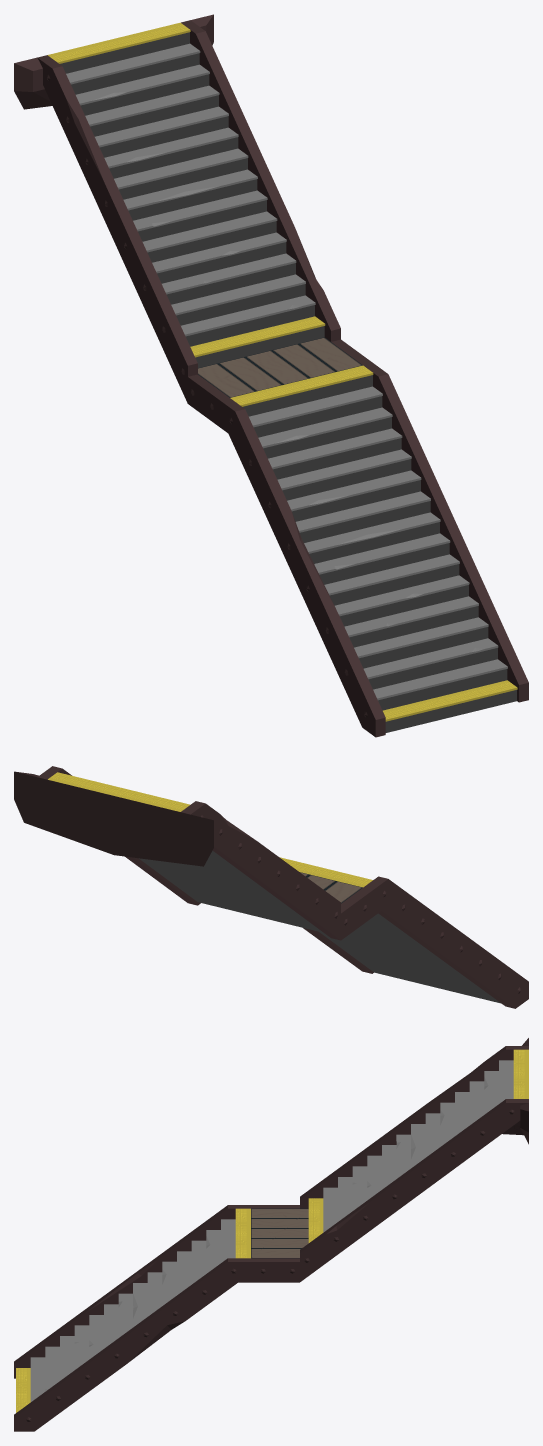
Rendered from SW_ENV_EL_StationStair.fbx.
3 renders of one model, top to bottom at view 1: azimuth 30°, elevation 25°; view 2: azimuth 150°, elevation 25°; view 3: azimuth 270°, elevation 25°, orthographic. The views are drawn at different scales.
Visible parts, largest first — view 1: SW_ENV_EL_StationStair; view 2: SW_ENV_EL_StationStair; view 3: SW_ENV_EL_StationStair.
Part boxes in pixels (<box>): SW_ENV_EL_StationStair: <box>14,14,528,737</box>; SW_ENV_EL_StationStair: <box>14,766,528,1008</box>; SW_ENV_EL_StationStair: <box>14,1038,528,1431</box>.
Size of the model in its own units: 300 by 620 by 880.
